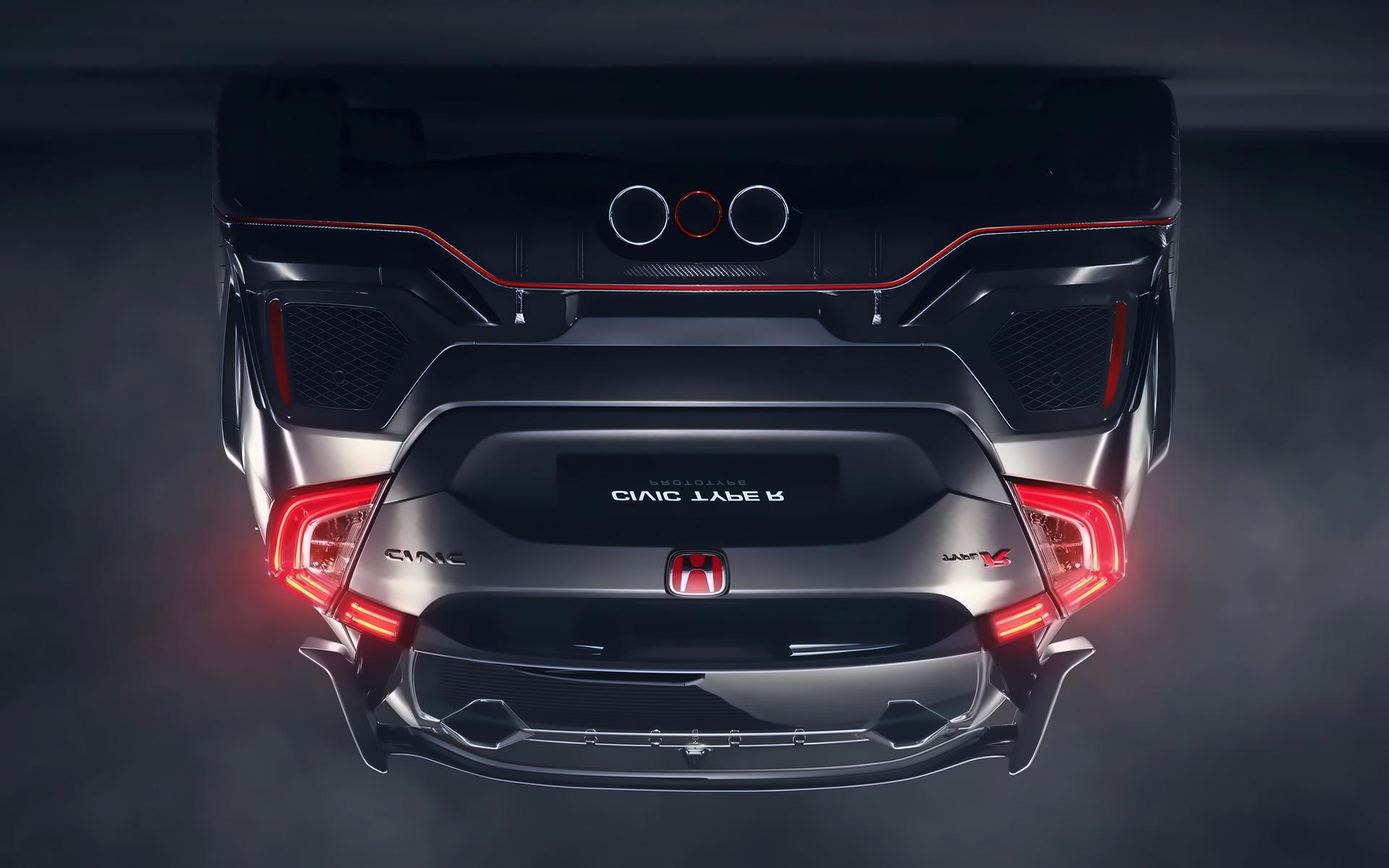Car boot: (311, 384, 1065, 731)
Rear bumper: (176, 177, 1273, 470)
Rear light - -L-: (981, 473, 1124, 647)
Rear light - -R-: (265, 469, 407, 644)
